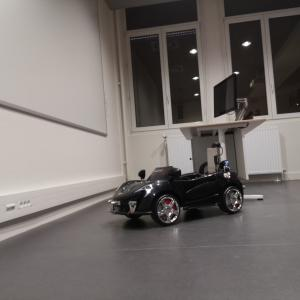big: (105, 160, 247, 225)
